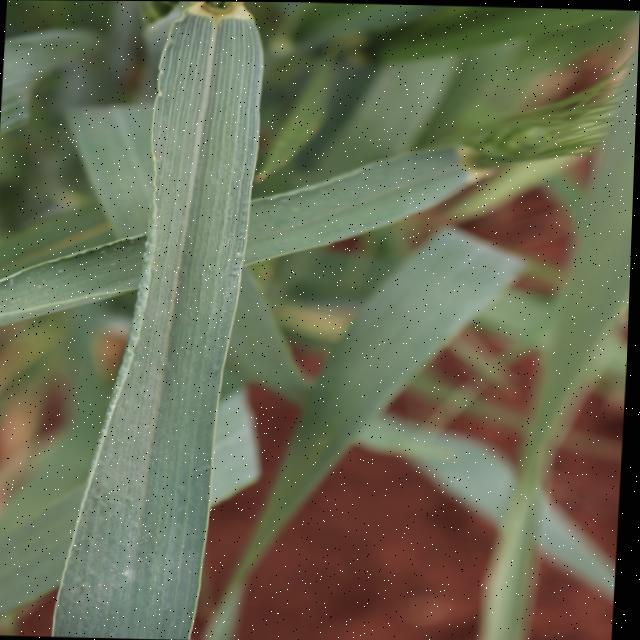healthy_wheat: (30, 0, 272, 640), (0, 95, 475, 351), (222, 196, 535, 551), (541, 34, 639, 406), (436, 41, 630, 223), (276, 2, 639, 67)
